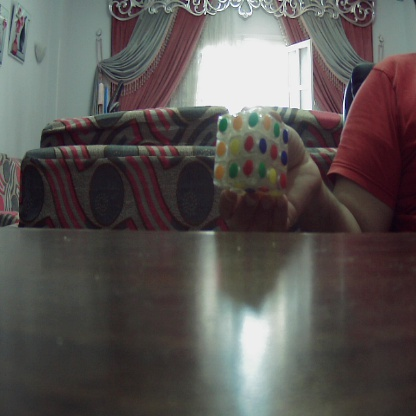Rubix Cube: (216, 113, 287, 190)
